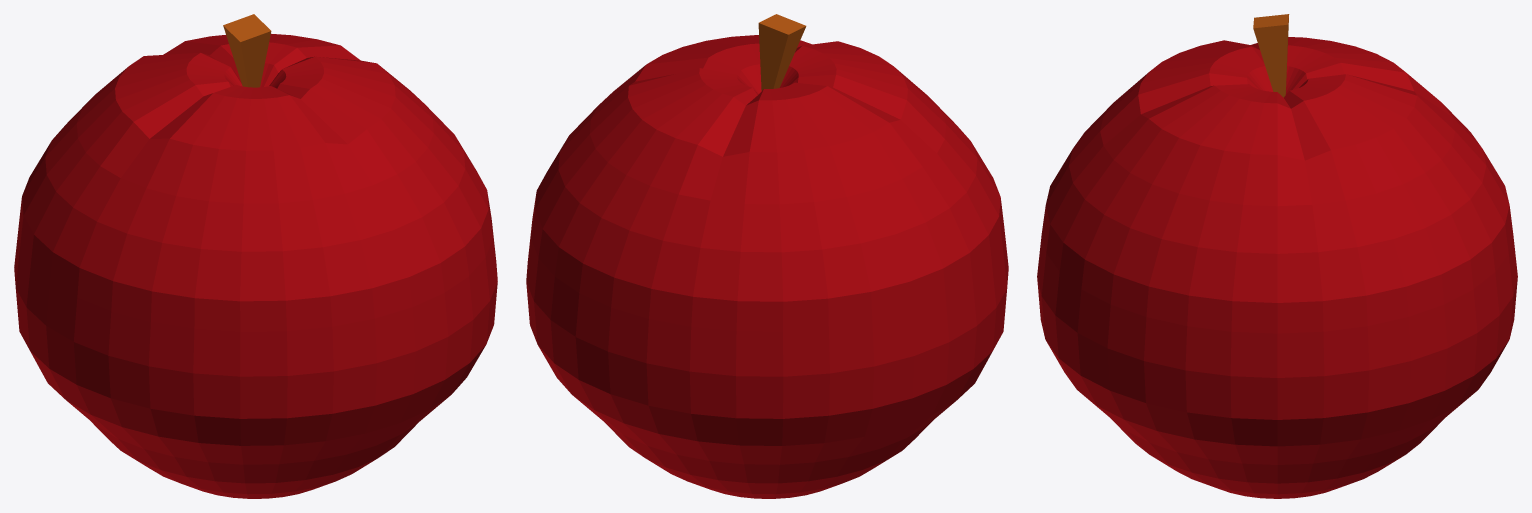
Rendered from maca.fbx.
3 views of the same model, side by side, from view 1: azimuth 30°, elevation 25°; view 2: azimuth 150°, elevation 25°; view 3: azimuth 270°, elevation 25° (orthographic).
Visible parts, largest first — view 1: Sphere; view 2: Sphere; view 3: Sphere.
Boxes of the visible parts, left/top/right/bottom form: Sphere: left=14, top=14, right=497, bottom=498; Sphere: left=526, top=14, right=1008, bottom=498; Sphere: left=1037, top=14, right=1517, bottom=498.
Bounding box in the file's own units: 216 × 225 × 216.
